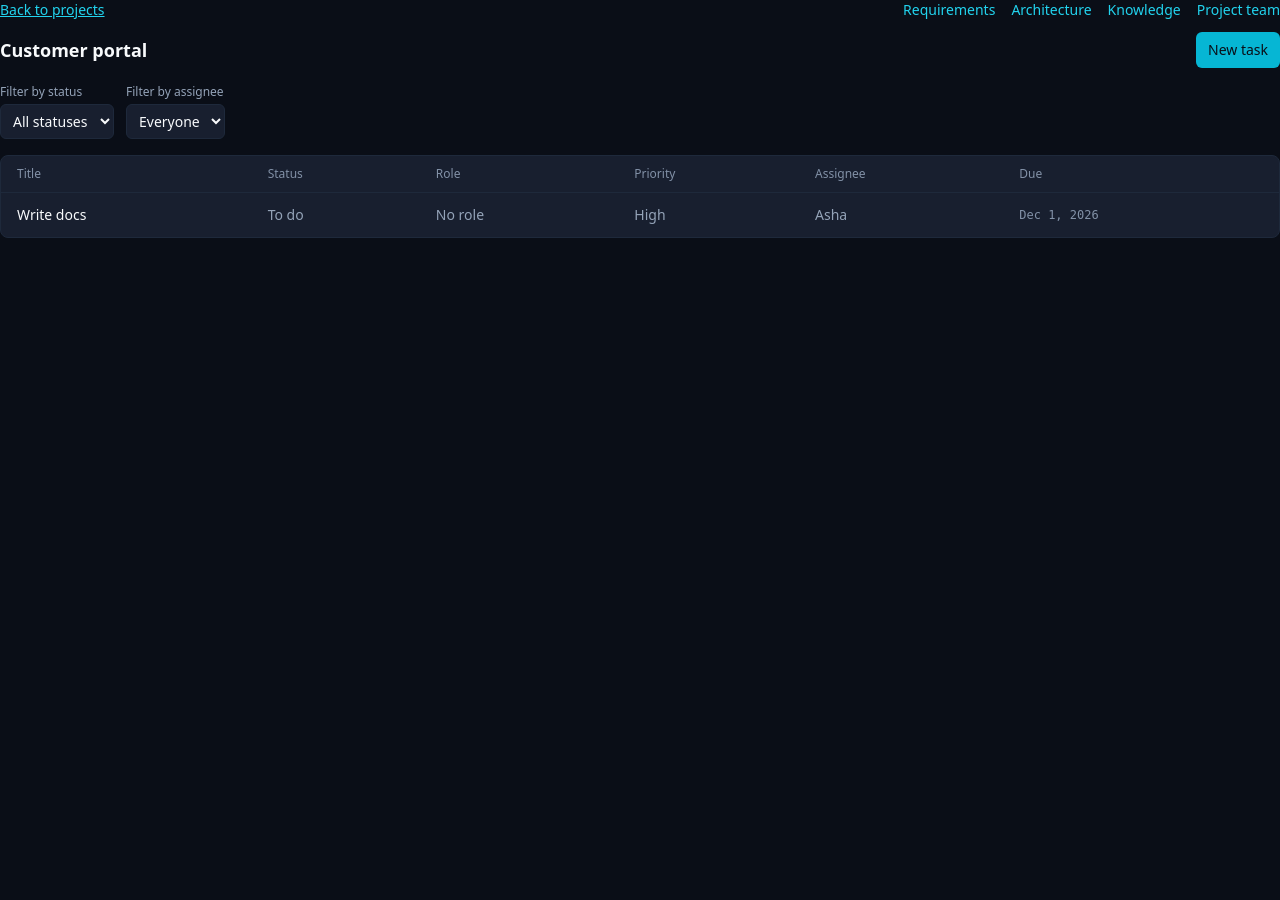
Test case: TaskListPage › sends null when the assignee is cleared
Click the button "Write docs": x=52, y=215 [17, 205, 86, 225]
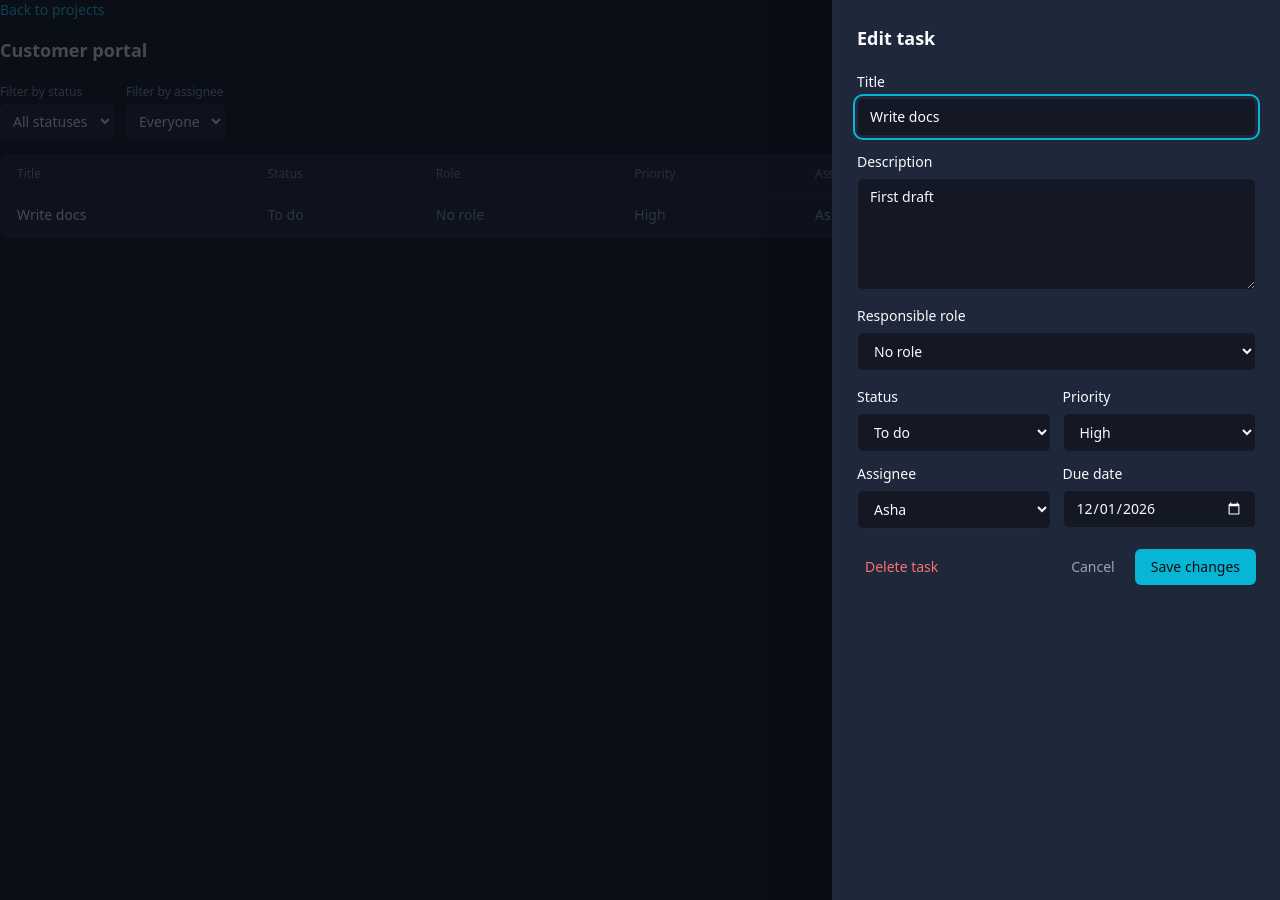
Select "Unassigned" in the dropdown labelled "Assignee": x=954, y=510 [857, 490, 1050, 529]
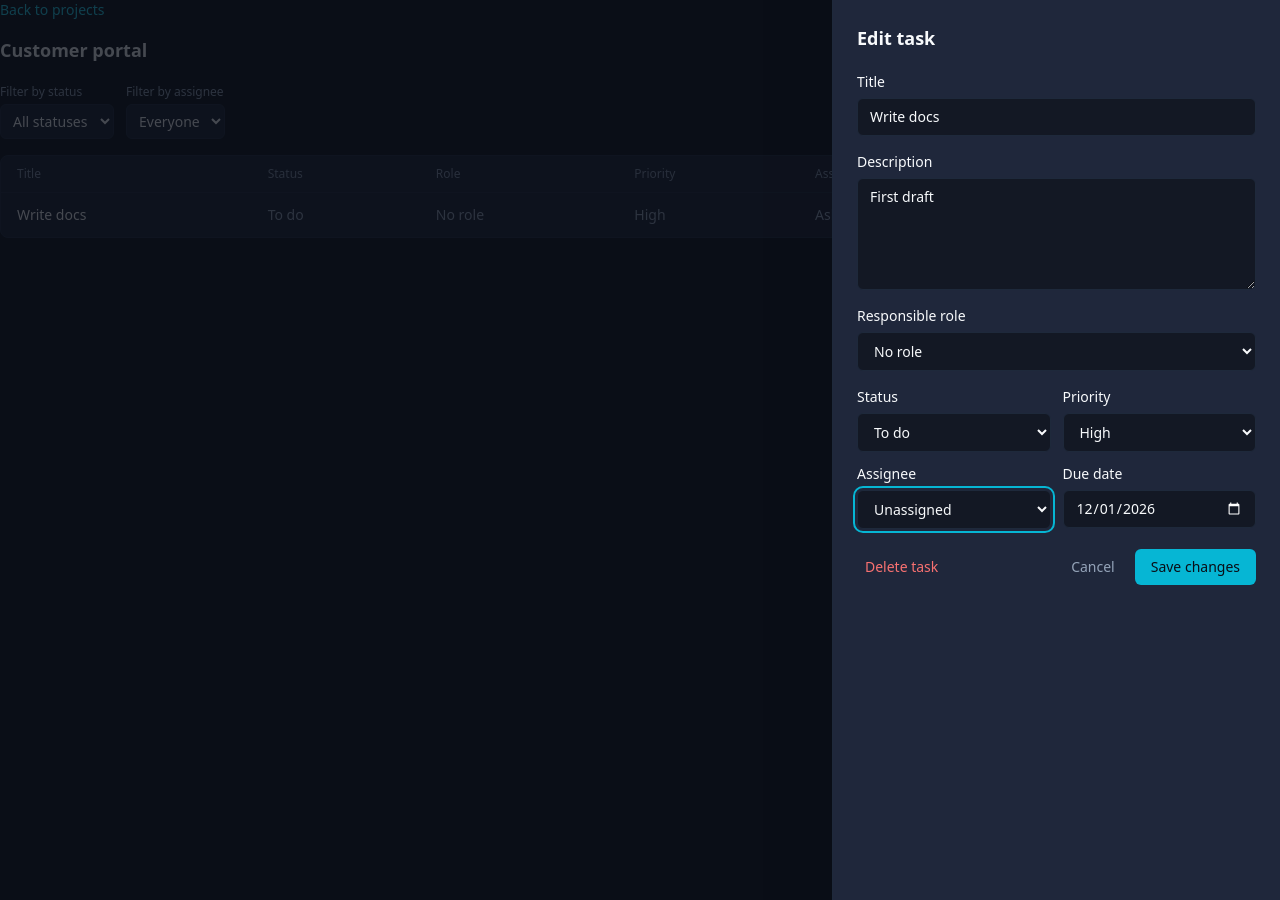
Click the button "Save changes": x=1195, y=567 [1135, 549, 1256, 585]
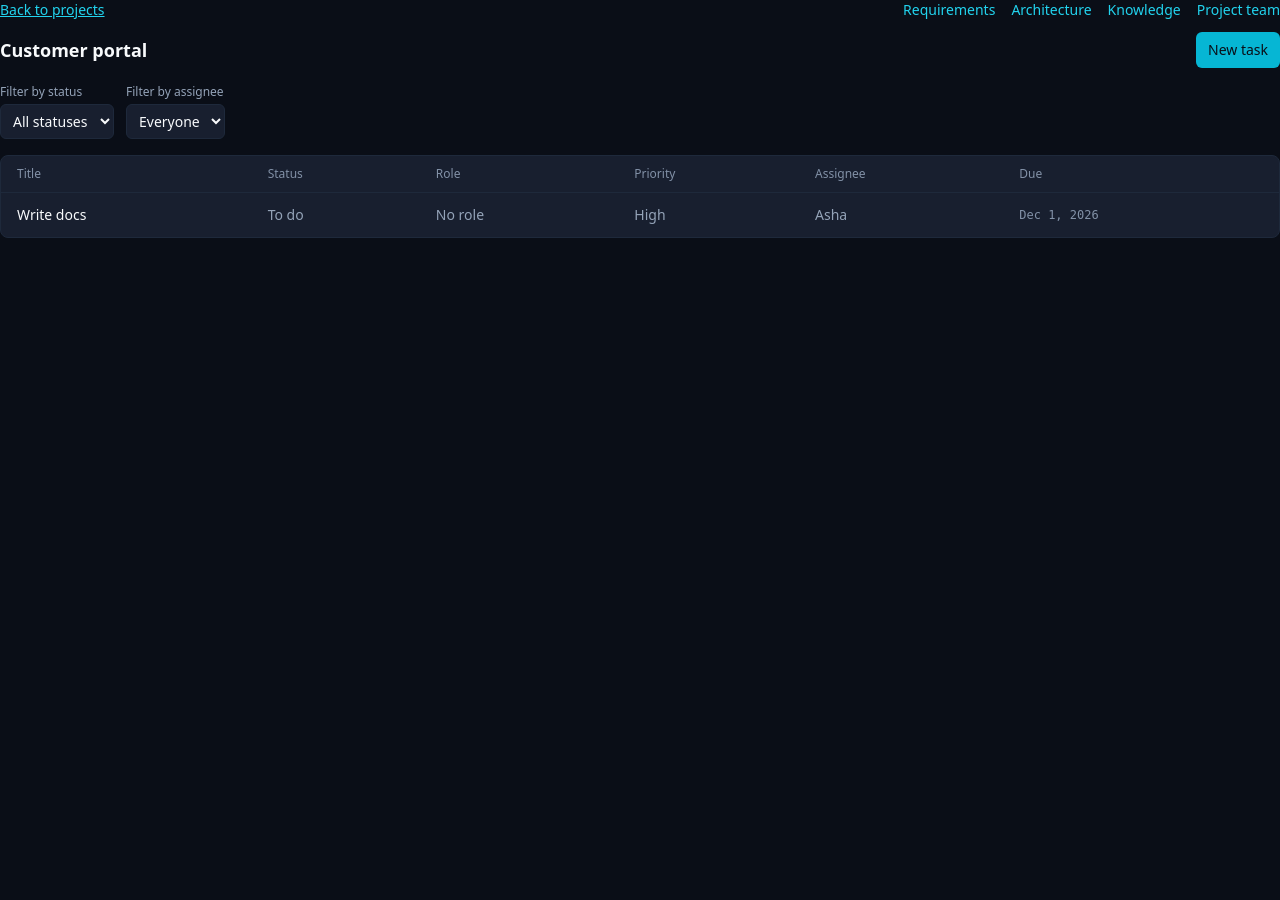
Now the dialog is gone
